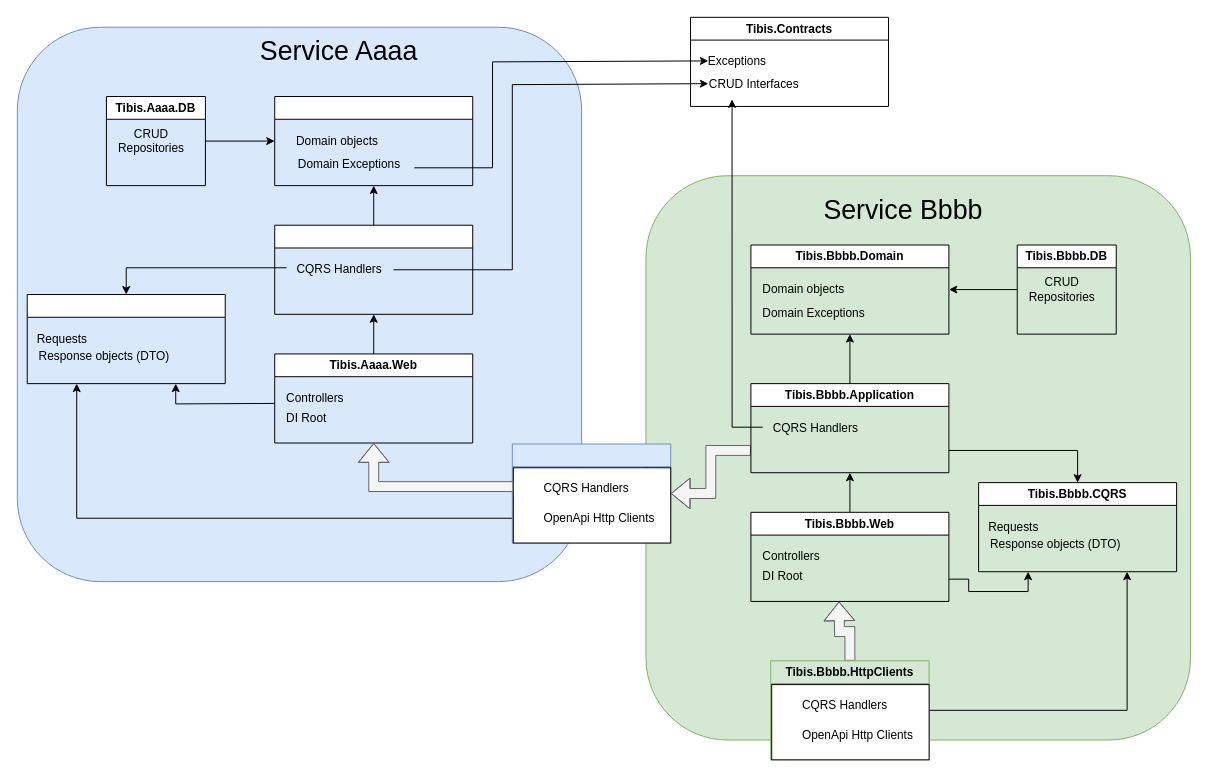
The diagram is 1208 pixels wide and 777 high, and some of its shapes have lost their labels. Here are the shapes that lost their labels. From the top down, the box of each, then its label:
(274, 96, 473, 186): Tibis.Aaaa.Domain
(274, 224, 473, 314): Tibis.Aaaa.Application
(26, 294, 225, 384): Tibis.Aaaa.CQRS
(511, 443, 671, 543): Tibis.Aaaa.HttpClients
